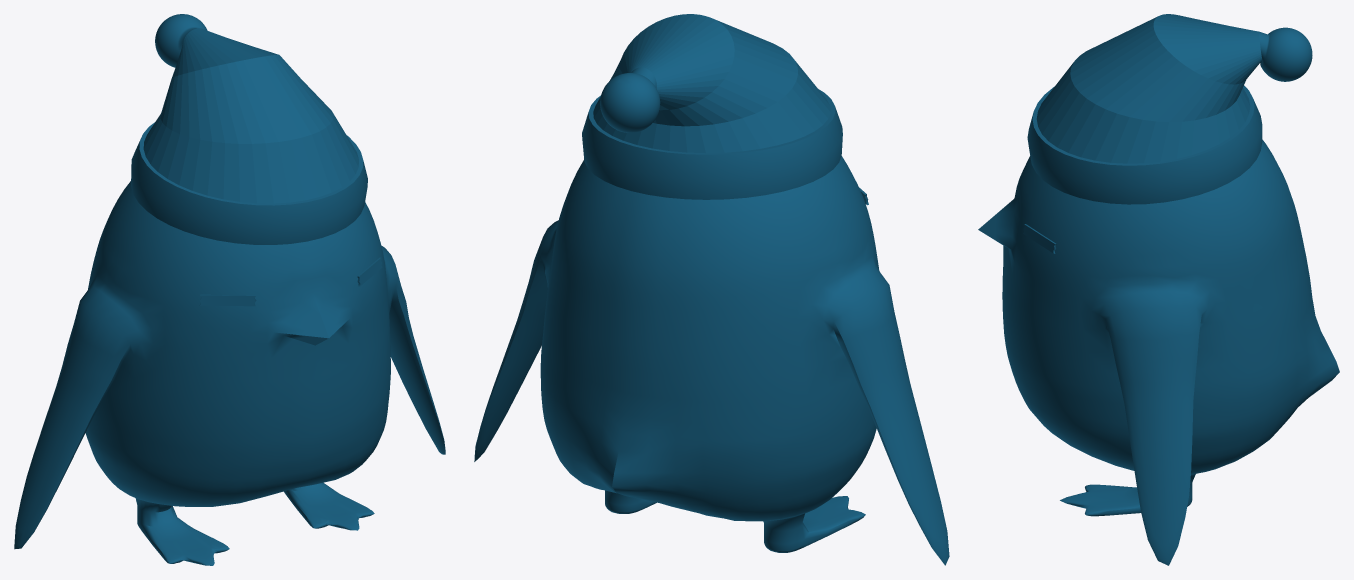
The model's file is penguin_blue_idle_40f.fbx.
The picture shows the model from 3 angles, left to right: view 1: azimuth 30°, elevation 25°; view 2: azimuth 150°, elevation 25°; view 3: azimuth 270°, elevation 25°; orthographic projection. The views are drawn at different scales.
Parts seen in each view (by area): view 1: ppp_40, bousi, ai; view 2: ppp_40, bousi; view 3: ppp_40, bousi.
Boxes of the visible parts, <box> form: ppp_40: <box>14,181,445,565</box>; bousi: <box>131,14,367,244</box>; ai: <box>199,257,382,306</box>; ppp_40: <box>474,156,949,565</box>; bousi: <box>582,14,842,199</box>; ppp_40: <box>978,139,1339,565</box>; bousi: <box>1027,14,1312,204</box>.
Bounding box in the file's own units: 19.8 × 20.12 × 14.66.
Materials: 1 (1 with a texture image).
